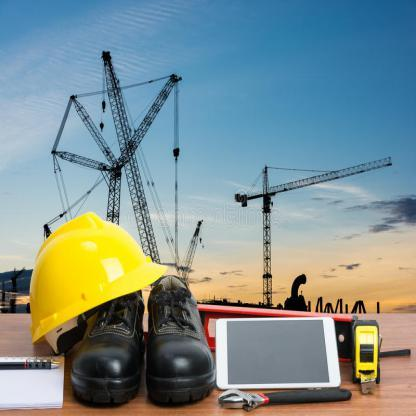bota: (144, 272, 219, 409), (67, 291, 144, 411)
